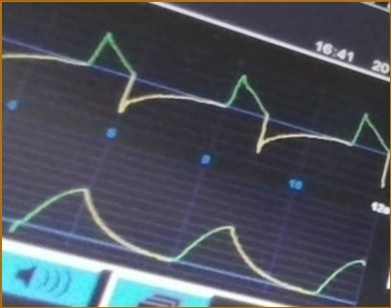Normal Flow: (3, 26, 391, 188)
Normal Volume: (8, 186, 366, 296)
